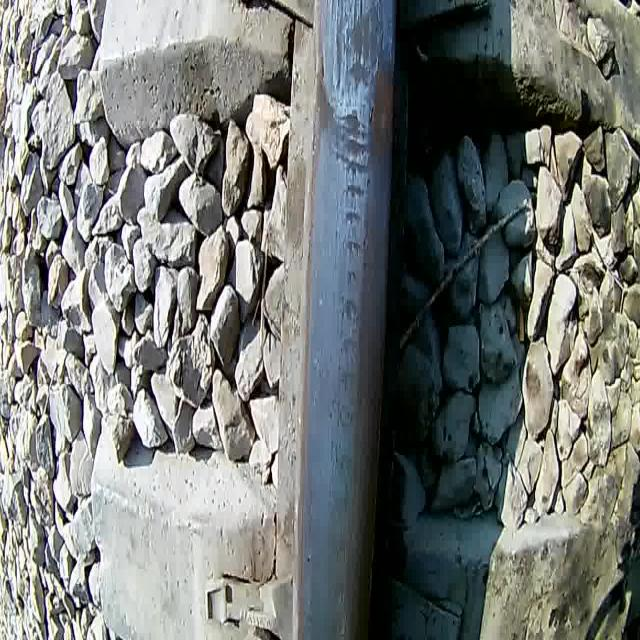Squats: (332, 0, 388, 94), (334, 181, 368, 328), (330, 100, 372, 178), (336, 330, 362, 441)
